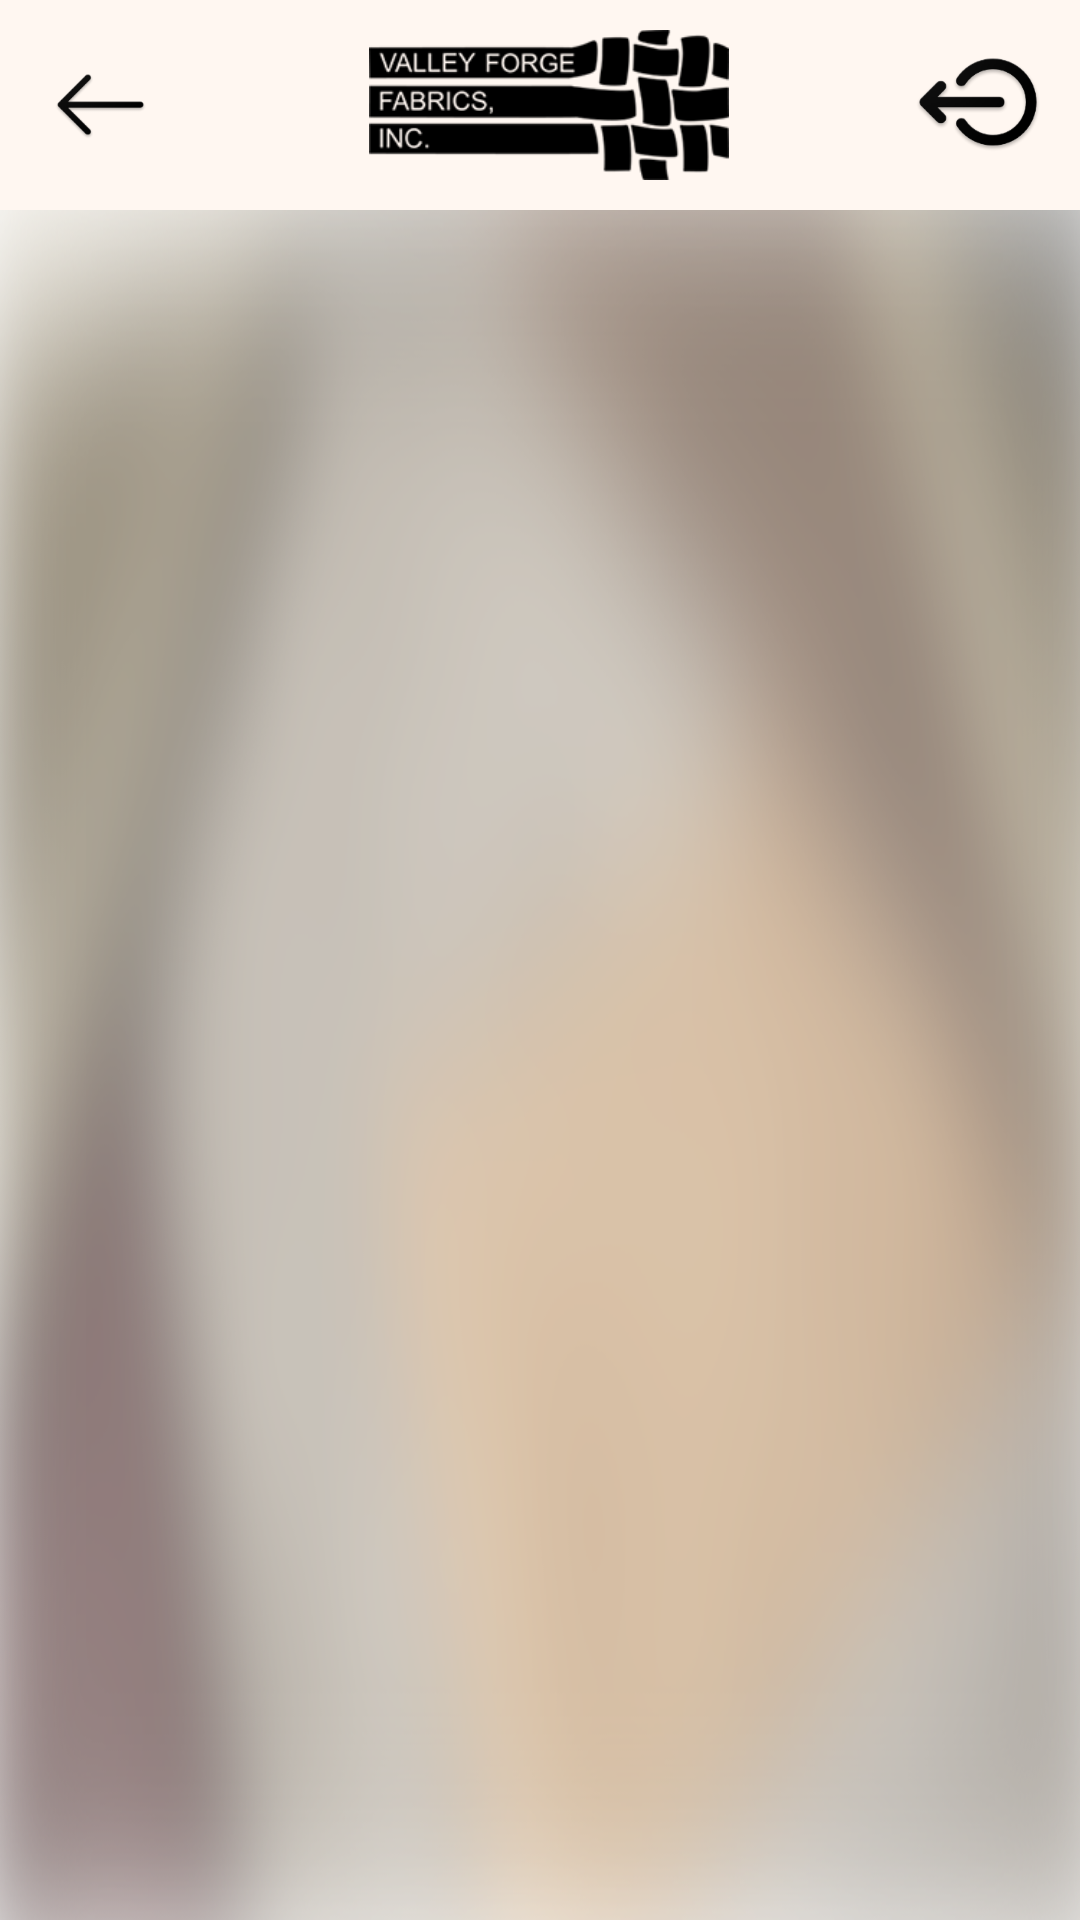

Locate icon controls on the screen. Image size 1080px x 1920px, boxes as (x1, y1, x2, y2).
back: (57, 74, 144, 137)
